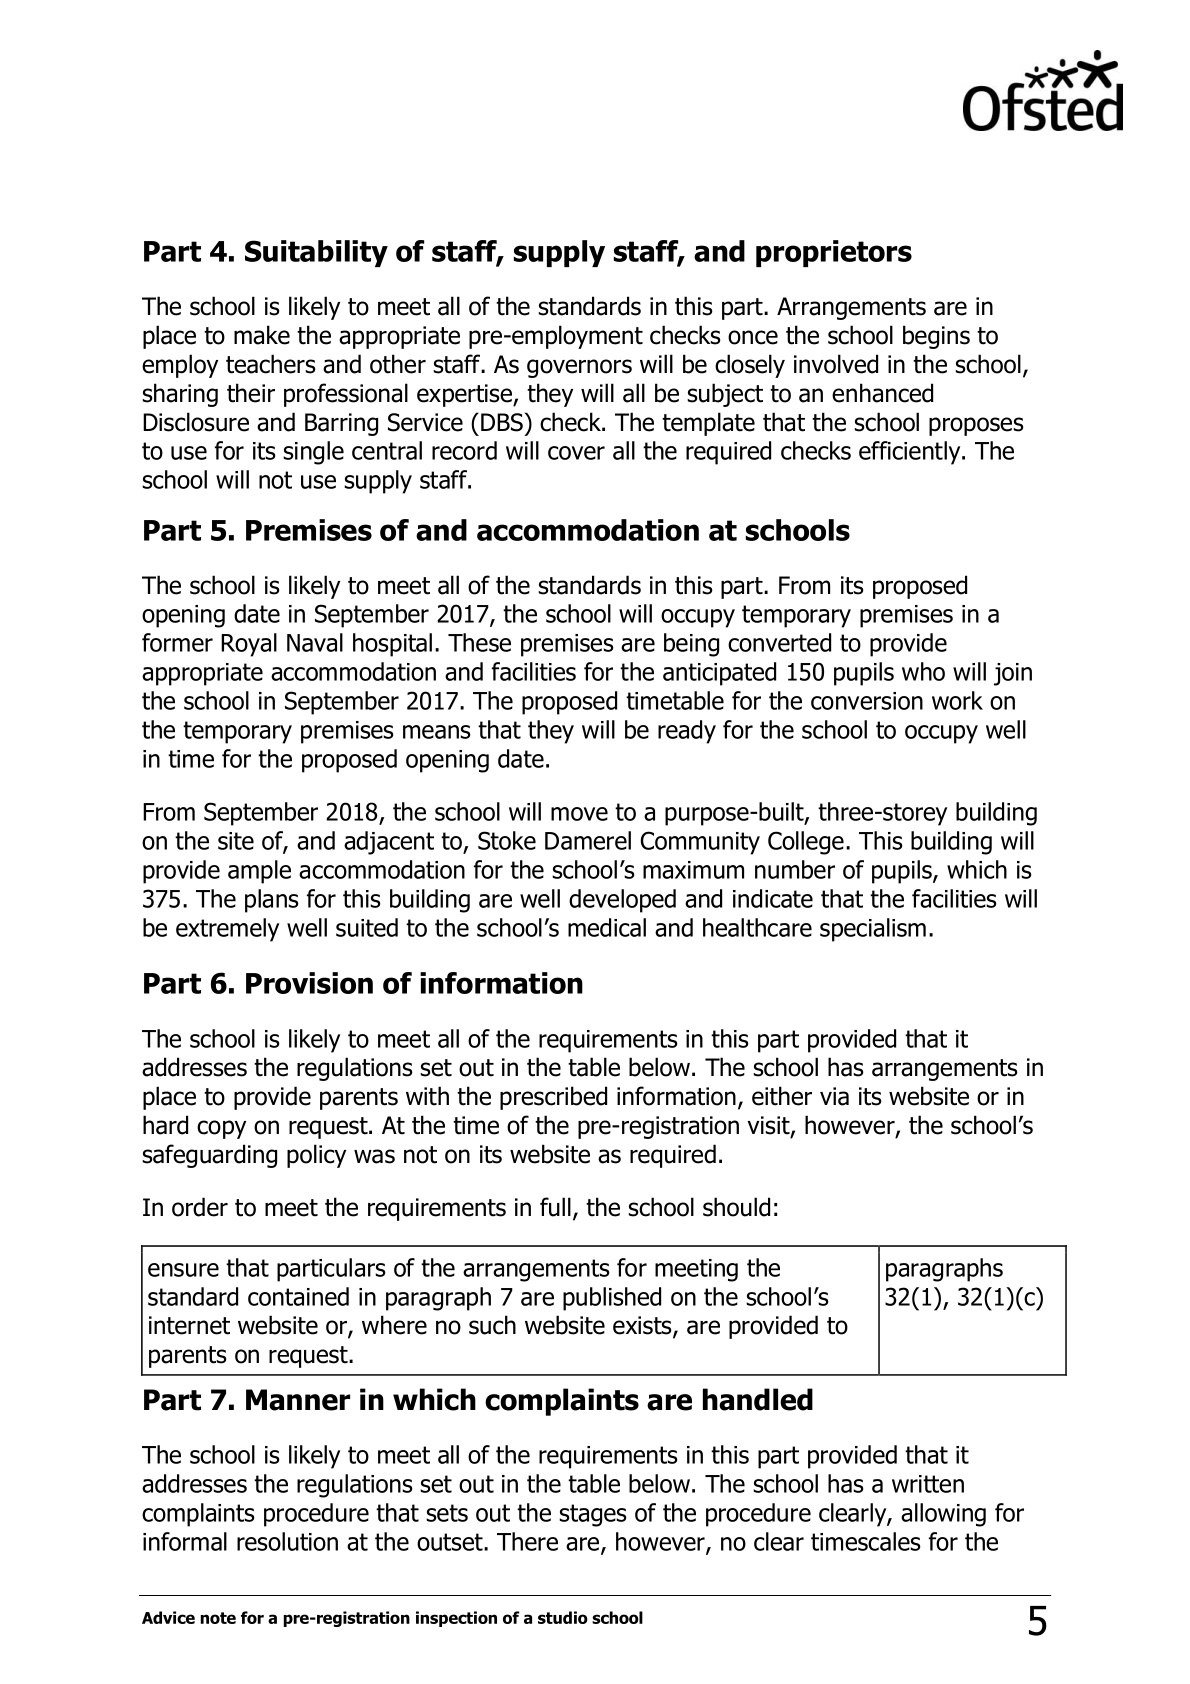full_lined: (140, 1241, 1073, 1381)
